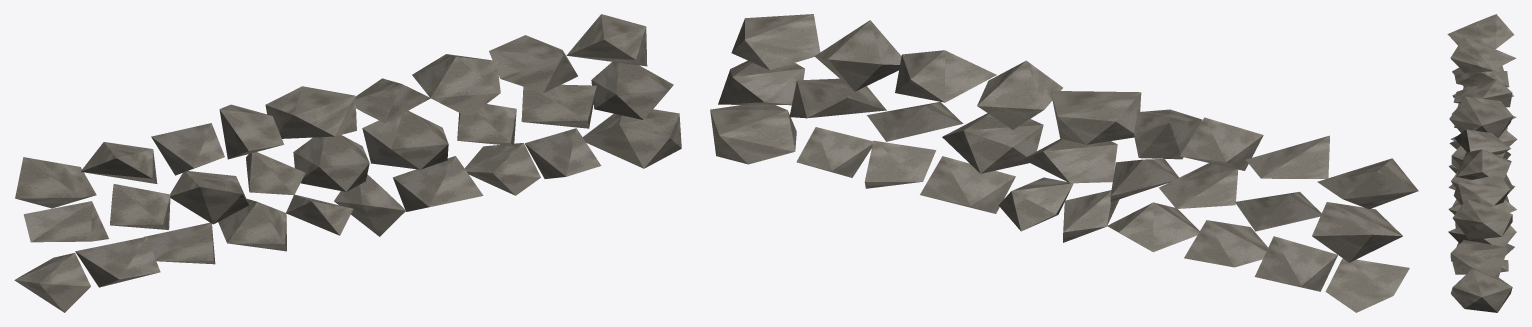
The model's file is stone_fence_4m_lod1.glb.
3 renders of one model, left to right at view 1: azimuth 30°, elevation 25°; view 2: azimuth 150°, elevation 25°; view 3: azimuth 270°, elevation 25°, orthographic. The views are drawn at different scales.
Visible parts, largest first — view 1: m; view 2: m; view 3: m.
Boxes of the visible parts, x1=… form: m: x1=14, y1=14, x2=681, y2=312; m: x1=710, y1=14, x2=1418, y2=312; m: x1=1447, y1=14, x2=1517, y2=312.
Bounding box in the file's own units: 4.35 × 0.9051 × 0.5862.
Materials: 1 (1 with a texture image).
